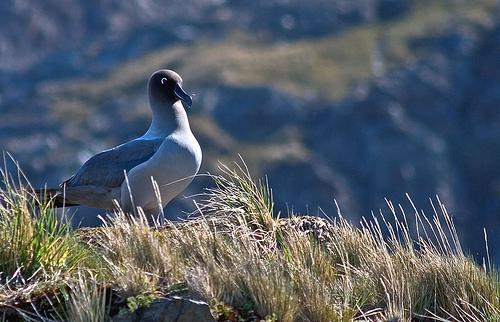003.Sooty_Albatross: (55, 70, 206, 227)
